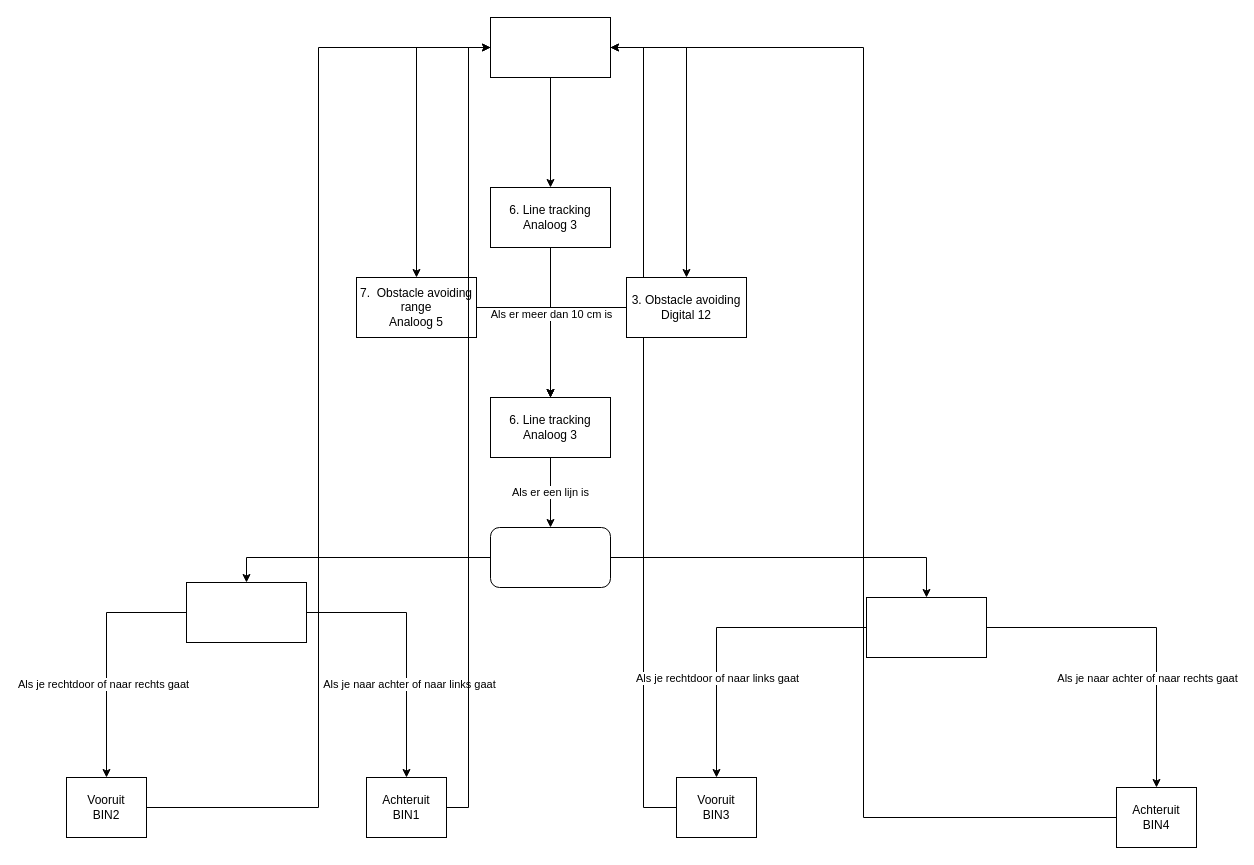
Some shapes in this 1254 by 865 pixel diagram are drawn without their labels. Each missing label, with the box of its shape:
8. Motor driver: (490, 526, 610, 588)
Left motor: (186, 582, 306, 642)
Right motor: (866, 596, 986, 658)
Start: (490, 16, 610, 78)
